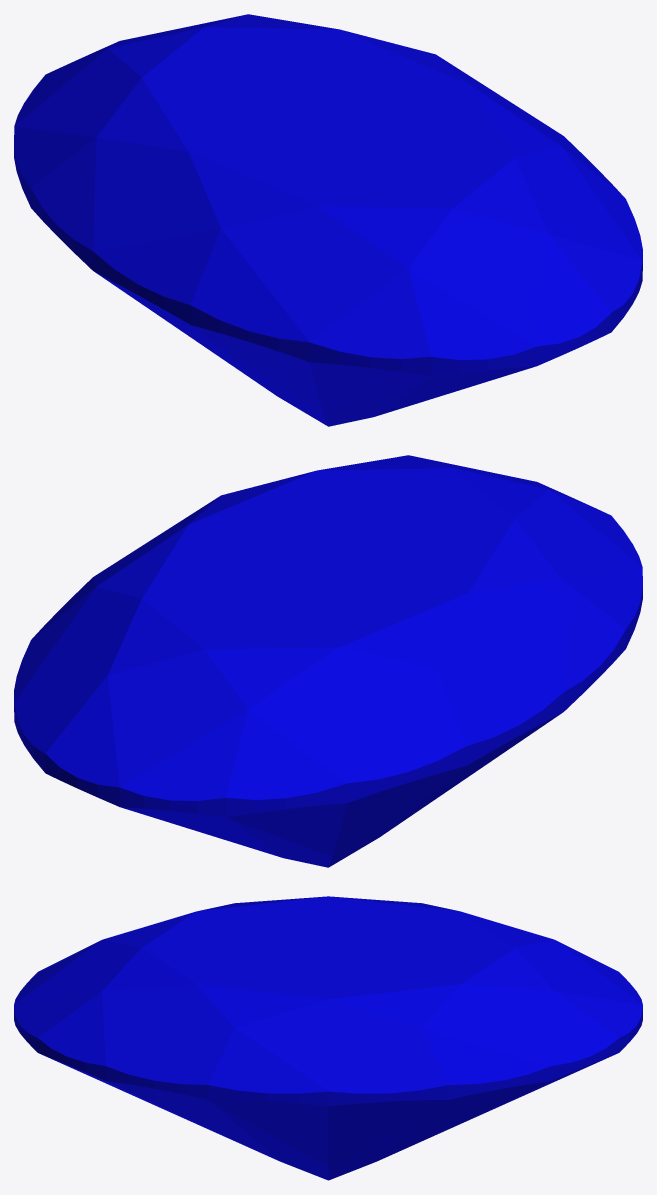
File: Head_No Halo_Oval_3.0ct_Diamond.glb
3 renders of one model, top to bottom at view 1: azimuth 30°, elevation 25°; view 2: azimuth 150°, elevation 25°; view 3: azimuth 270°, elevation 25°, orthographic. The views are drawn at different scales.
Size of the model in its own units: 0.00748 by 0.00469 by 0.0115.
